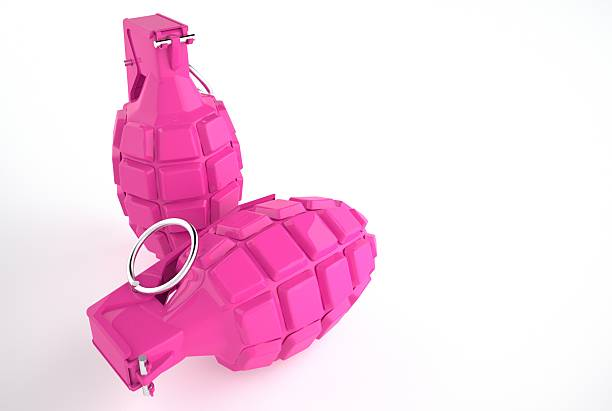e1: (104, 5, 255, 258)
